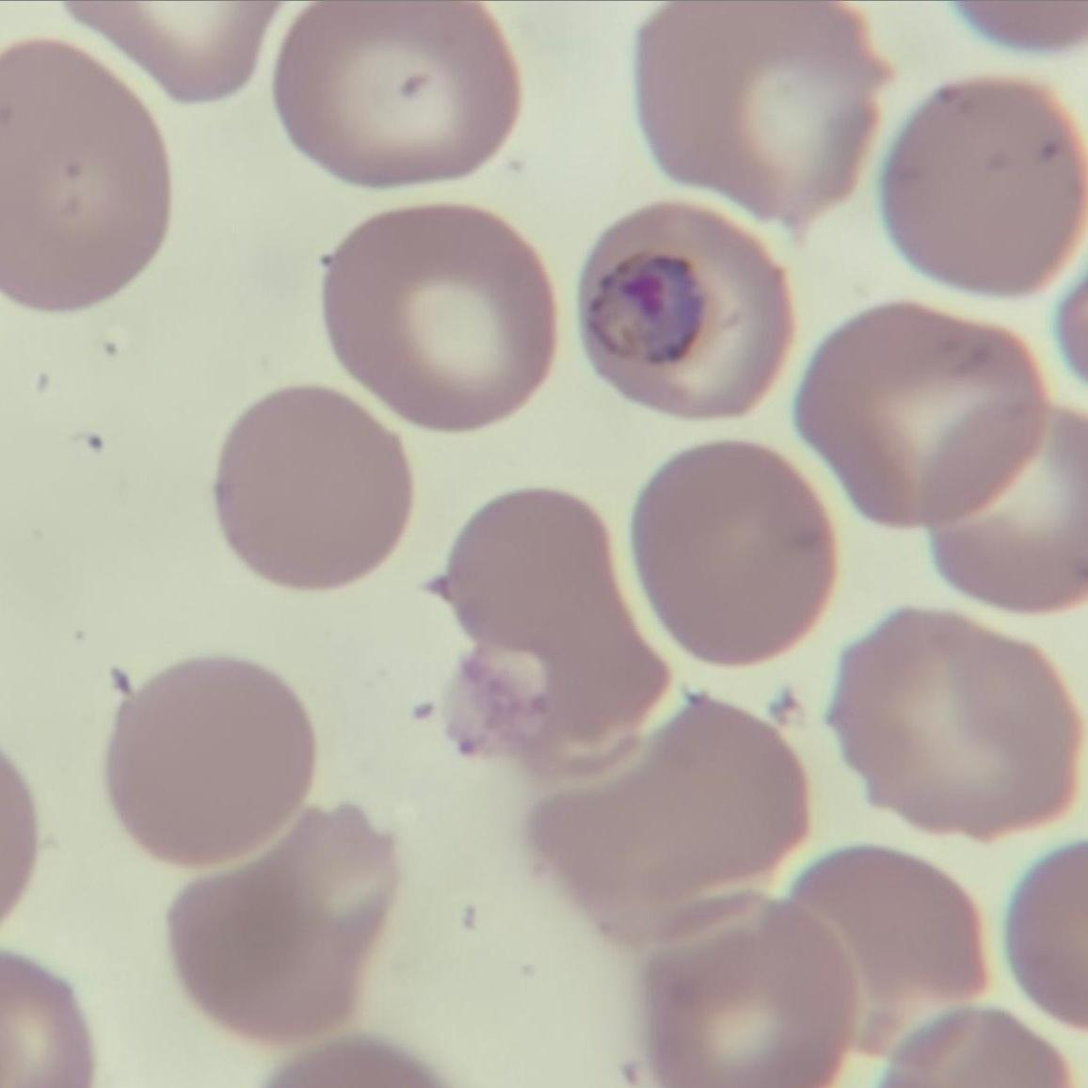Infected: (578, 208, 792, 421)
Uninfected: (529, 697, 811, 930), (442, 488, 663, 750), (830, 612, 1082, 836), (634, 0, 878, 225), (798, 302, 1042, 525), (168, 808, 392, 1039), (324, 204, 553, 428), (271, 0, 521, 190), (636, 435, 835, 666), (102, 657, 320, 865), (0, 40, 166, 312), (883, 78, 1088, 294), (220, 384, 416, 591), (648, 891, 853, 1088), (791, 847, 982, 1053), (928, 396, 1088, 615)
